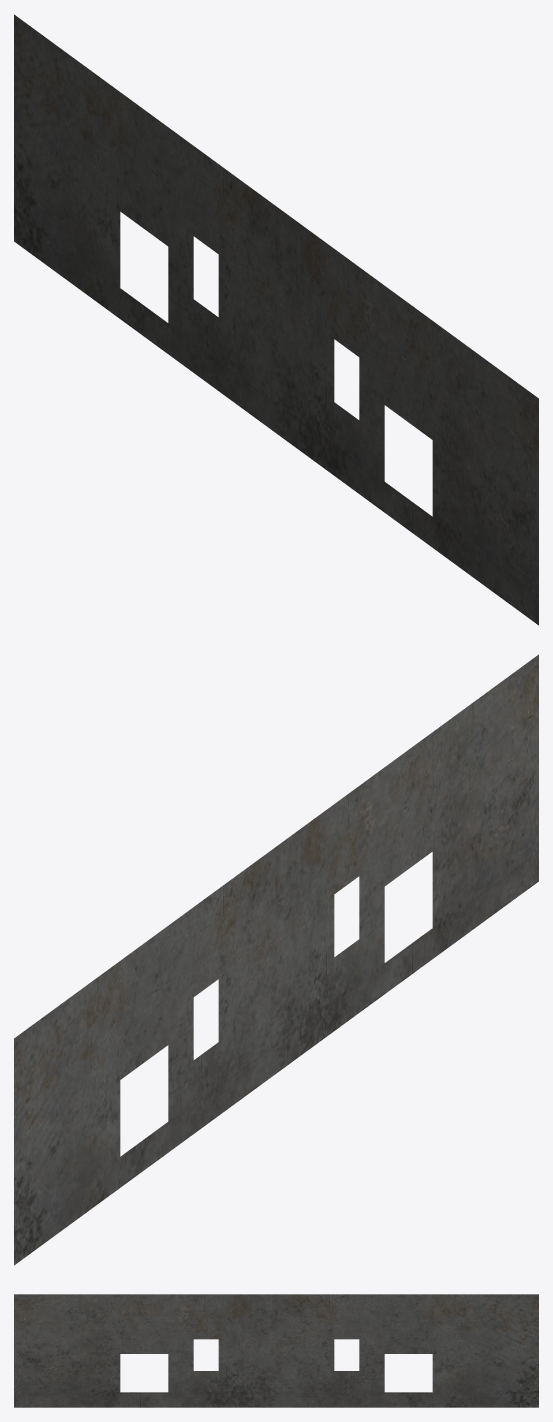
The model's file is Wall_01.FBX.
3 views of the same model, one above another, from view 1: azimuth 30°, elevation 25°; view 2: azimuth 150°, elevation 25°; view 3: azimuth 270°, elevation 25° (orthographic). The views are drawn at different scales.
Visible parts, largest first — view 1: Wall_01; view 2: Wall_01; view 3: Wall_01.
Part boxes in pixels (x1,y1,x2,y2): Wall_01: [14, 14, 538, 625]; Wall_01: [14, 654, 538, 1265]; Wall_01: [14, 1294, 538, 1407].
Bounding box in the file's own units: 0.00103 × 511 × 2142.
